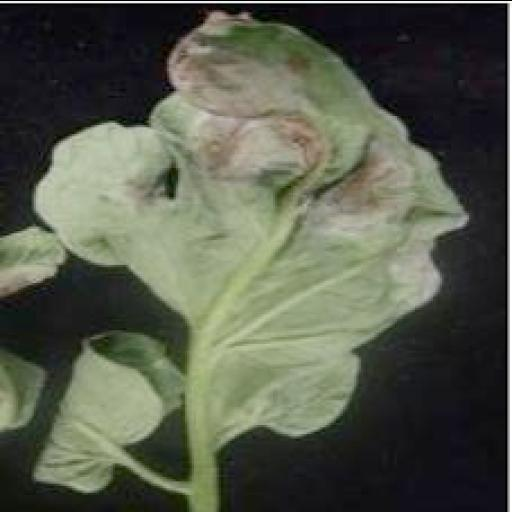Late Blight: (2, 0, 473, 499)
